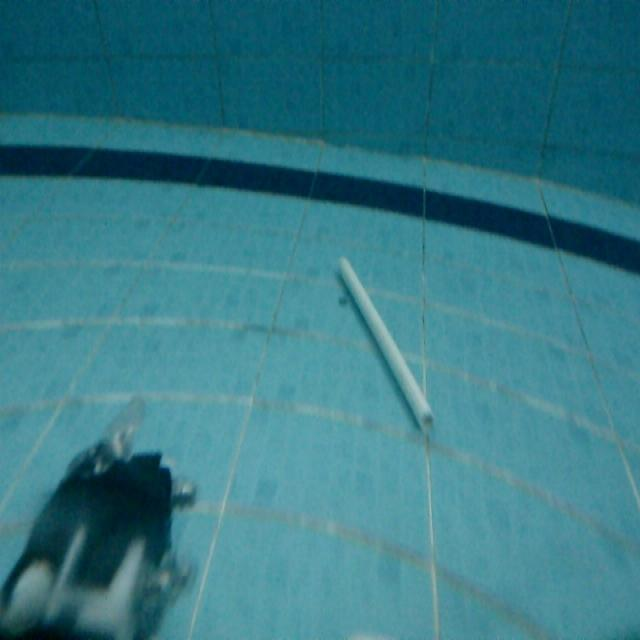Cube: (332, 249, 438, 436)
